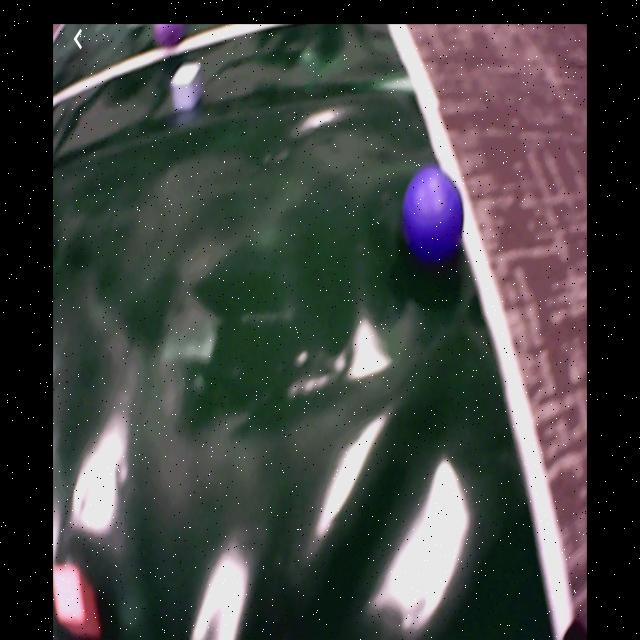ball: (402, 168, 467, 263), (153, 25, 183, 47)
